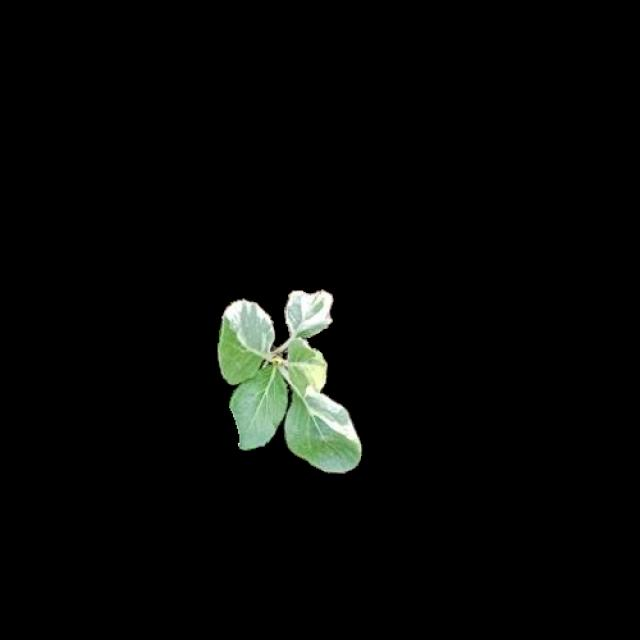not-mature: (219, 292, 361, 474)
unhealthy: (284, 392, 360, 474), (220, 297, 274, 385), (282, 292, 336, 342), (284, 342, 329, 389)
